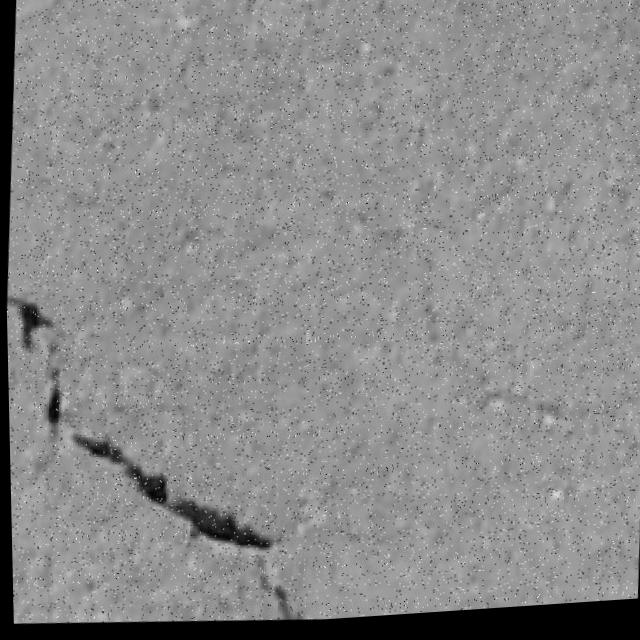Crack: (5, 266, 322, 639)
